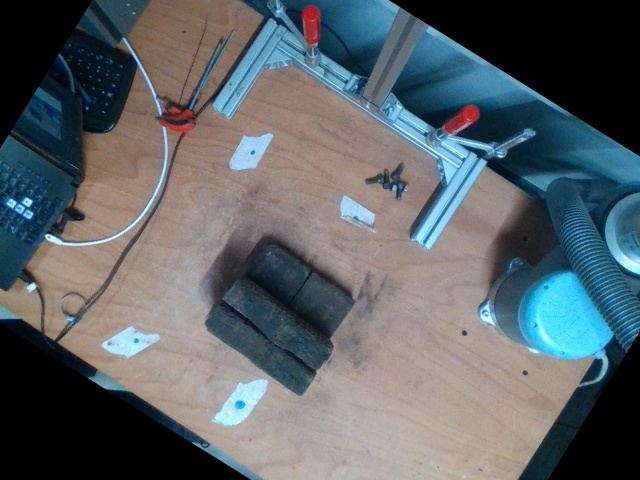brick-side: (226, 282, 329, 369), (205, 308, 308, 395)
